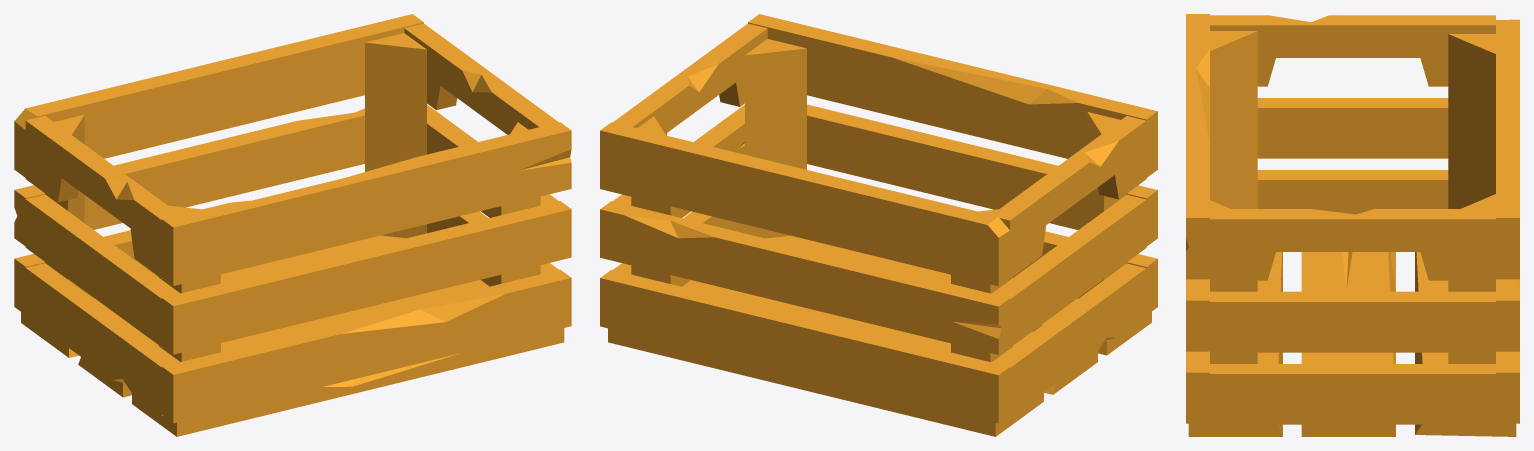
The model's file is SM_Crate_Wood_Small.fbx.
3 views of the same model, side by side, from view 1: azimuth 30°, elevation 25°; view 2: azimuth 150°, elevation 25°; view 3: azimuth 270°, elevation 25° (orthographic). The views are drawn at different scales.
Parts seen in each view (by area): view 1: crate-wood-small; view 2: crate-wood-small; view 3: crate-wood-small.
Boxes of the visible parts, x1=… form: crate-wood-small: x1=14, y1=14, x2=571, y2=436; crate-wood-small: x1=600, y1=14, x2=1157, y2=436; crate-wood-small: x1=1186, y1=14, x2=1519, y2=436.
Size of the model in its own units: 0.3036 by 0.1541 by 0.21.
